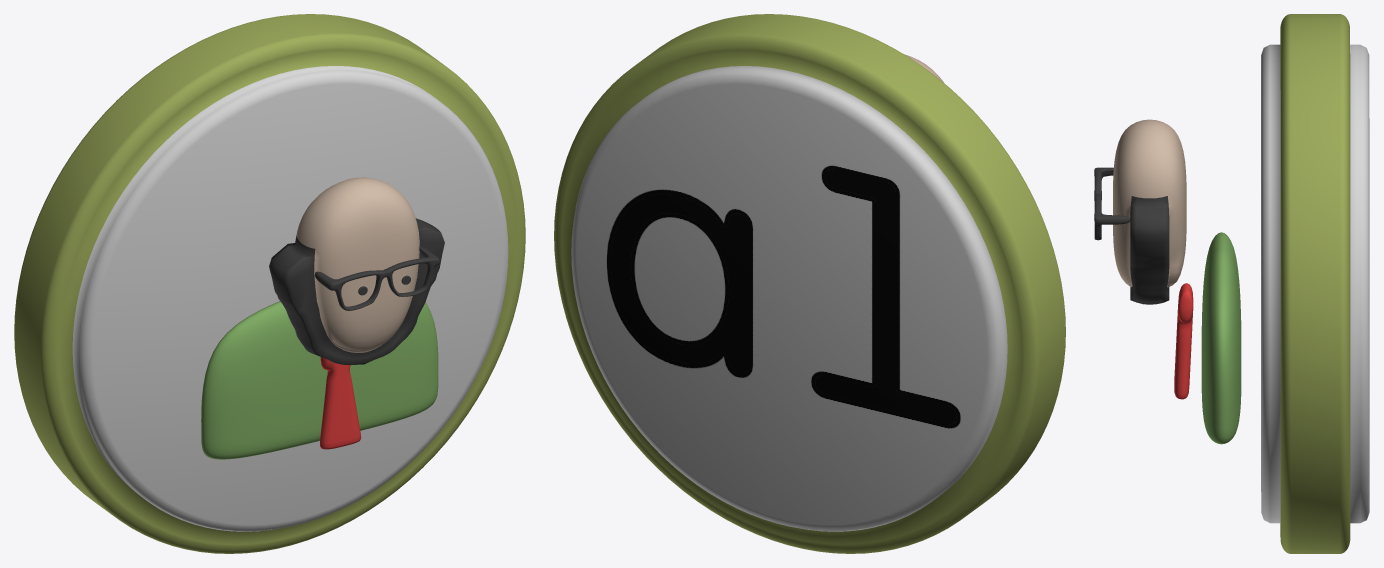
Rendered from bald4.gltf.
3 renders of one model, left to right at view 1: azimuth 30°, elevation 25°; view 2: azimuth 150°, elevation 25°; view 3: azimuth 270°, elevation 25°, orthographic. The views are drawn at different scales.
Parts seen in each view (by area): view 1: coin, Cube.001, Cube, Cube.003, Cylinder; view 2: coin; view 3: coin, Cube, Cube.001, Cube.003, Cylinder.
Part boxes in pixels (box(x1,y1,x2,y2)): coin: box(14, 14, 525, 553); Cube.001: box(201, 301, 438, 459); Cube: box(269, 177, 444, 364); Cube.003: box(320, 357, 360, 449); Cylinder: box(315, 246, 439, 310); coin: box(554, 14, 1065, 553); coin: box(1261, 14, 1369, 553); Cube: box(1113, 119, 1186, 304); Cube.001: box(1201, 232, 1241, 444); Cube.003: box(1174, 283, 1193, 399); Cylinder: box(1094, 167, 1130, 240).
Size of what is drawn, in the model's own units: 2.56 by 2.56 by 1.3.
7 materials, 1 textured.
